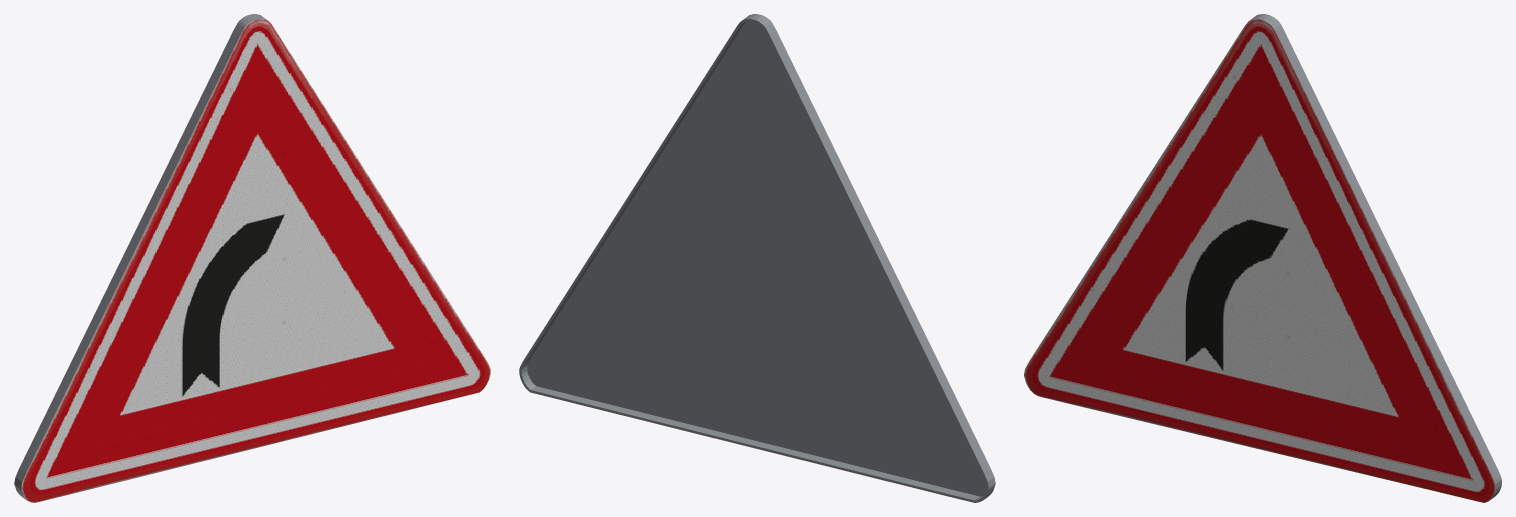
The picture shows the model from 3 angles, left to right: view 1: azimuth 30°, elevation 25°; view 2: azimuth 150°, elevation 25°; view 3: azimuth 330°, elevation 25°; orthographic projection.
Visible parts, largest first — view 1: cat_028c98d2c0f1f8c7; view 2: cat_028c98d2c0f1f8c7; view 3: cat_028c98d2c0f1f8c7.
Part boxes in pixels (bbox=[...]): cat_028c98d2c0f1f8c7: bbox=[14, 14, 490, 502]; cat_028c98d2c0f1f8c7: bbox=[519, 14, 995, 502]; cat_028c98d2c0f1f8c7: bbox=[1024, 14, 1501, 502].
Bounding box in the file's own units: 0.6 × 0.015 × 0.5245.
Materials: 2 (1 with a texture image).
